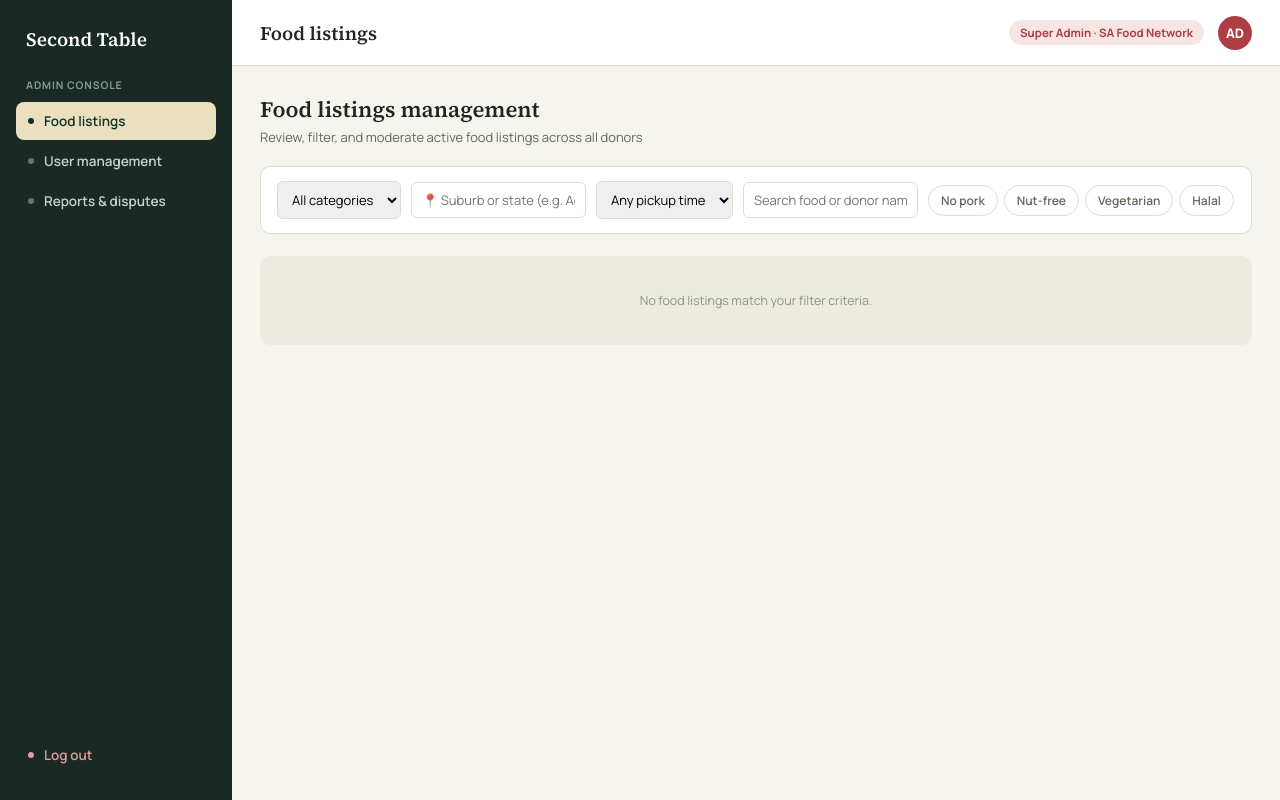
Test: reactivates a deactivated account
Click the element with class "sb-item" showing "User management": (95,161) [28,152,162,170]
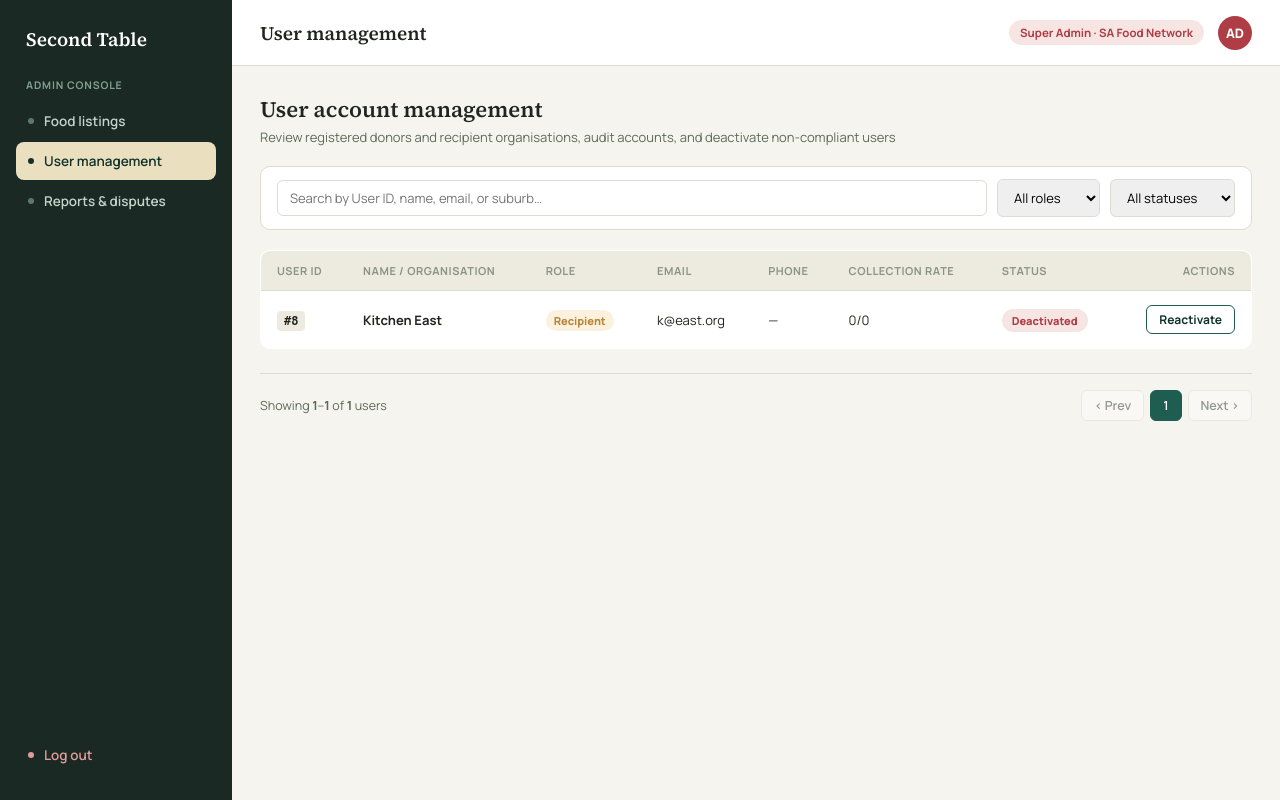
Click the button with class "btn-reactivate": (1191,320) [1146,305,1235,334]
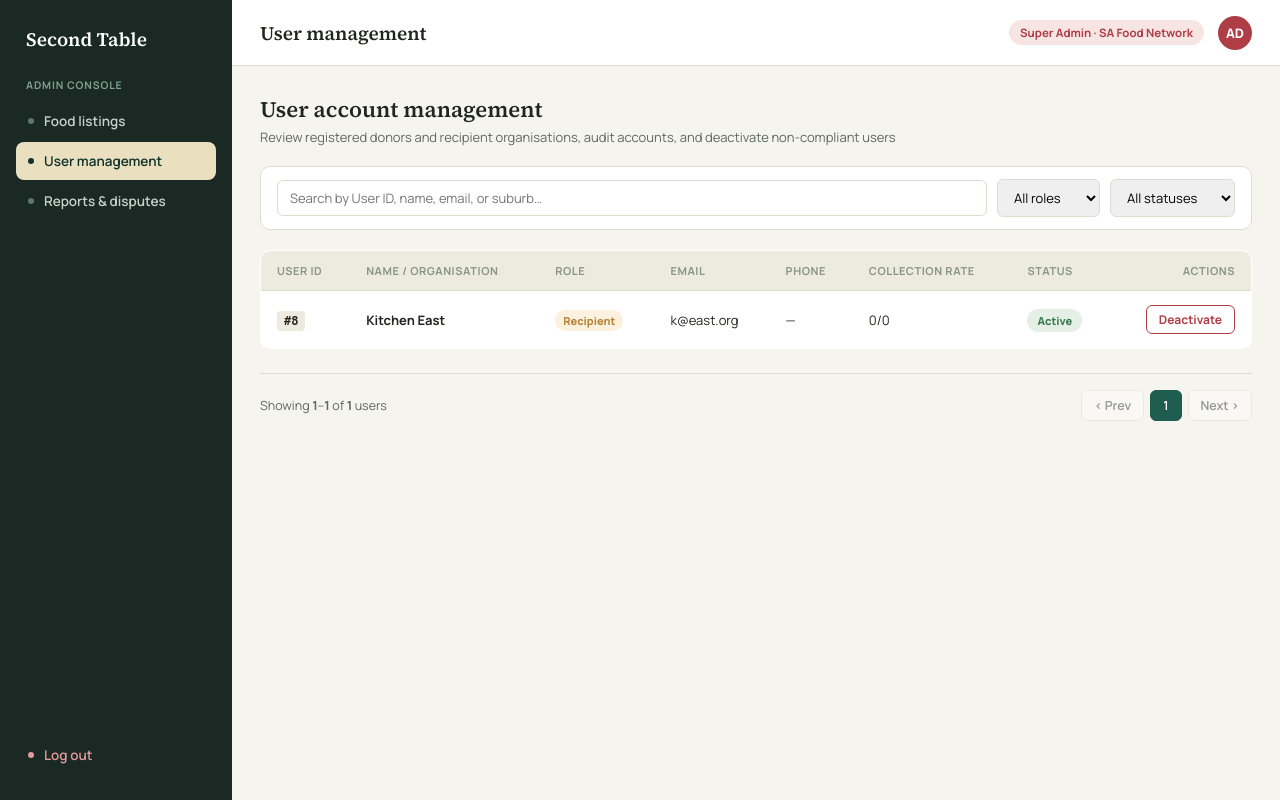
Result: the row "#8 Kitchen East Recipient k@east.org — 0/0 Active Deactivate" is shown at [260,290,1252,348]
